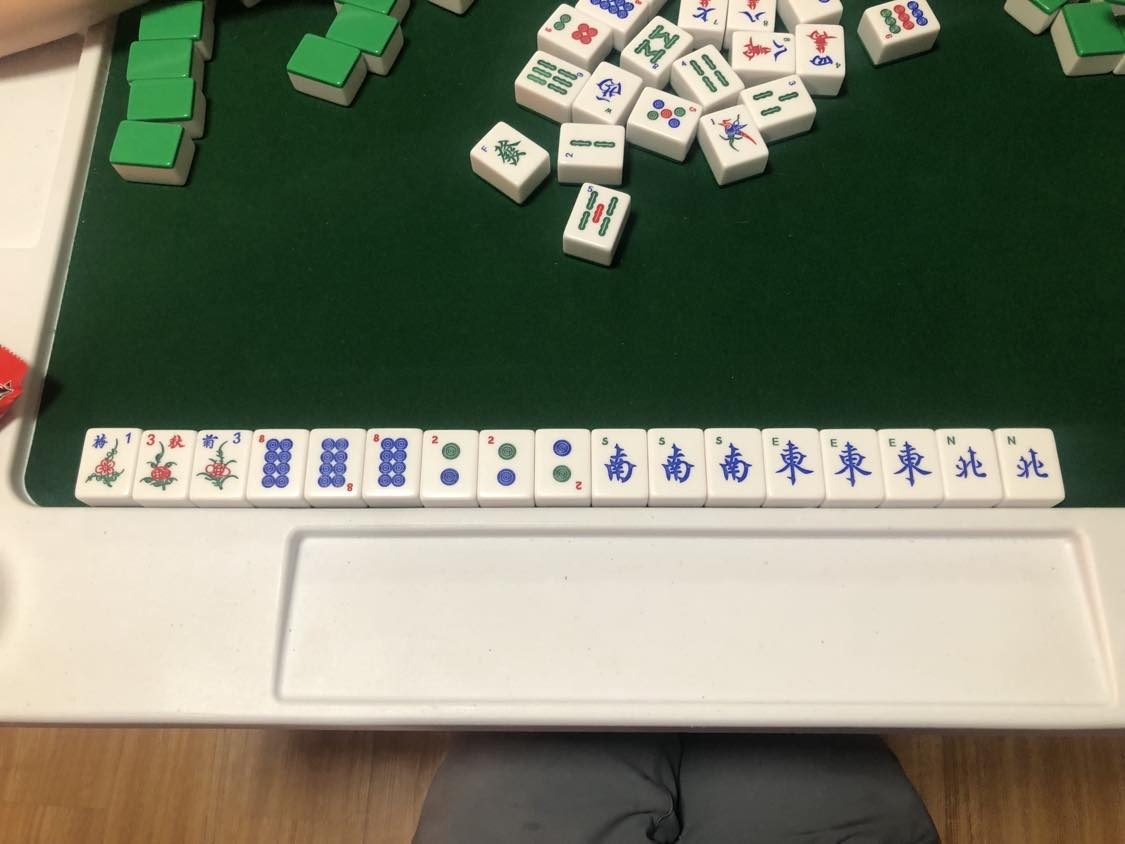circle-eight: (368, 431, 415, 493), (313, 431, 358, 493), (254, 432, 297, 492)
circle-two: (483, 432, 528, 494), (427, 433, 472, 493), (543, 434, 586, 494)
flower-blue_one: (83, 427, 135, 495)
flower-blue_three: (196, 431, 244, 495)
flower-red_three: (139, 431, 189, 499)
honor-east_wind: (826, 430, 876, 490), (885, 430, 936, 488), (769, 430, 816, 490)
honor-north_wind: (942, 432, 990, 485), (1007, 431, 1053, 484)
honor-south_wind: (597, 433, 643, 491), (655, 433, 700, 489), (712, 432, 755, 489)
